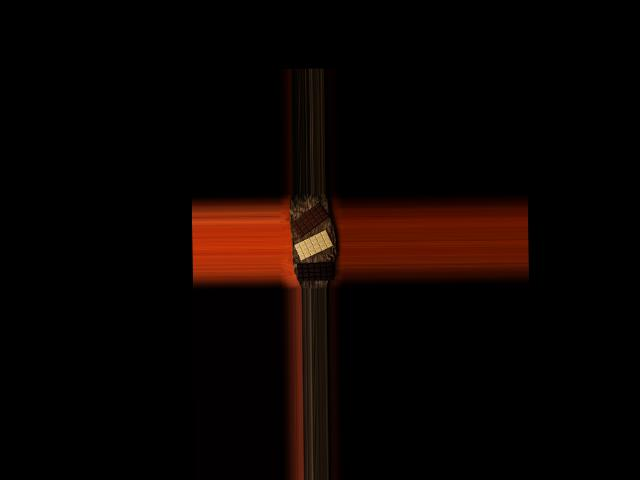chocolate: (297, 262, 334, 281)
